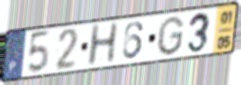2: (56, 27, 79, 72)
3: (186, 10, 214, 56)
5: (25, 28, 53, 77)
6: (122, 21, 145, 61)
G: (155, 15, 186, 58)
H: (85, 21, 120, 69)
